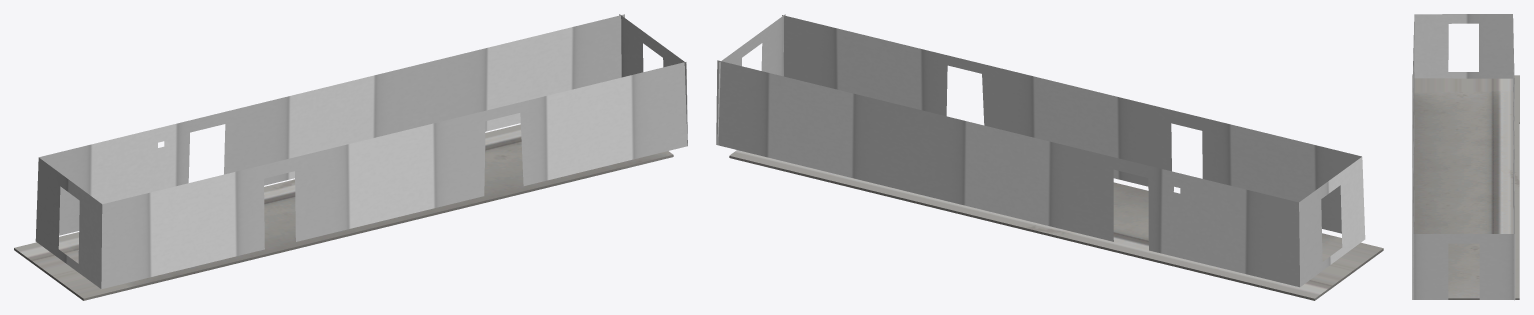
File: hall.fbx
The picture shows the model from 3 angles, left to right: view 1: azimuth 30°, elevation 25°; view 2: azimuth 150°, elevation 25°; view 3: azimuth 270°, elevation 25°; orthographic projection. The views are drawn at different scales.
Parts seen in each view (by area): view 1: ENV_Wall01.002_lobby.001, ENV_Plafondhall_lobbyfloor.001; view 2: ENV_Wall01.002_lobby.001, ENV_Plafondhall_lobbyfloor.001; view 3: ENV_Plafondhall_lobbyfloor.001, ENV_Wall01.002_lobby.001.
Boxes of the visible parts, box(x1,y1,x2,y2) form: ENV_Wall01.002_lobby.001: box(35, 14, 687, 289); ENV_Plafondhall_lobbyfloor.001: box(14, 124, 673, 300); ENV_Wall01.002_lobby.001: box(716, 14, 1365, 287); ENV_Plafondhall_lobbyfloor.001: box(729, 150, 1383, 300); ENV_Plafondhall_lobbyfloor.001: box(1412, 75, 1519, 299); ENV_Wall01.002_lobby.001: box(1412, 14, 1515, 300).
Size of the model in its own units: 16485 by 2369 by 3274.
